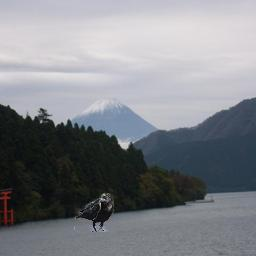Crow: (74, 193, 114, 232)
